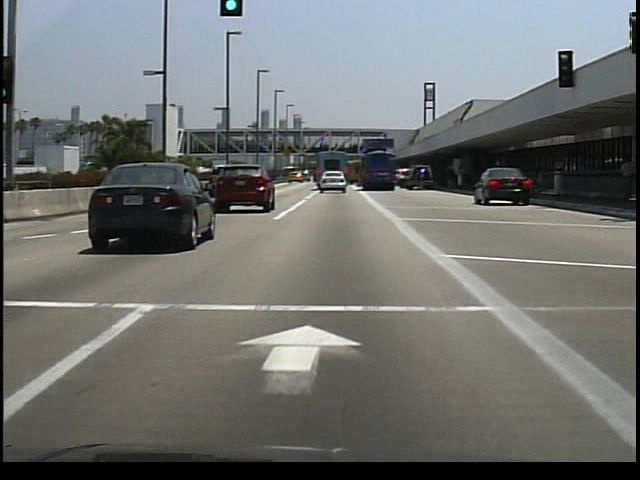person: (615, 155, 639, 207)
